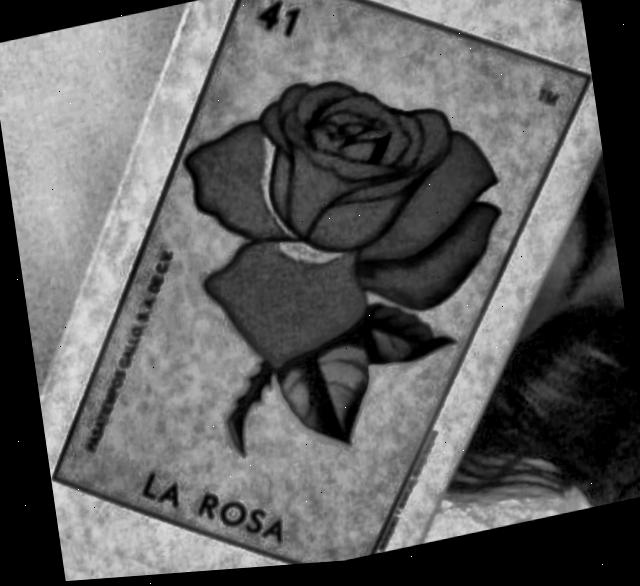La Rosa: (51, 0, 589, 568)
